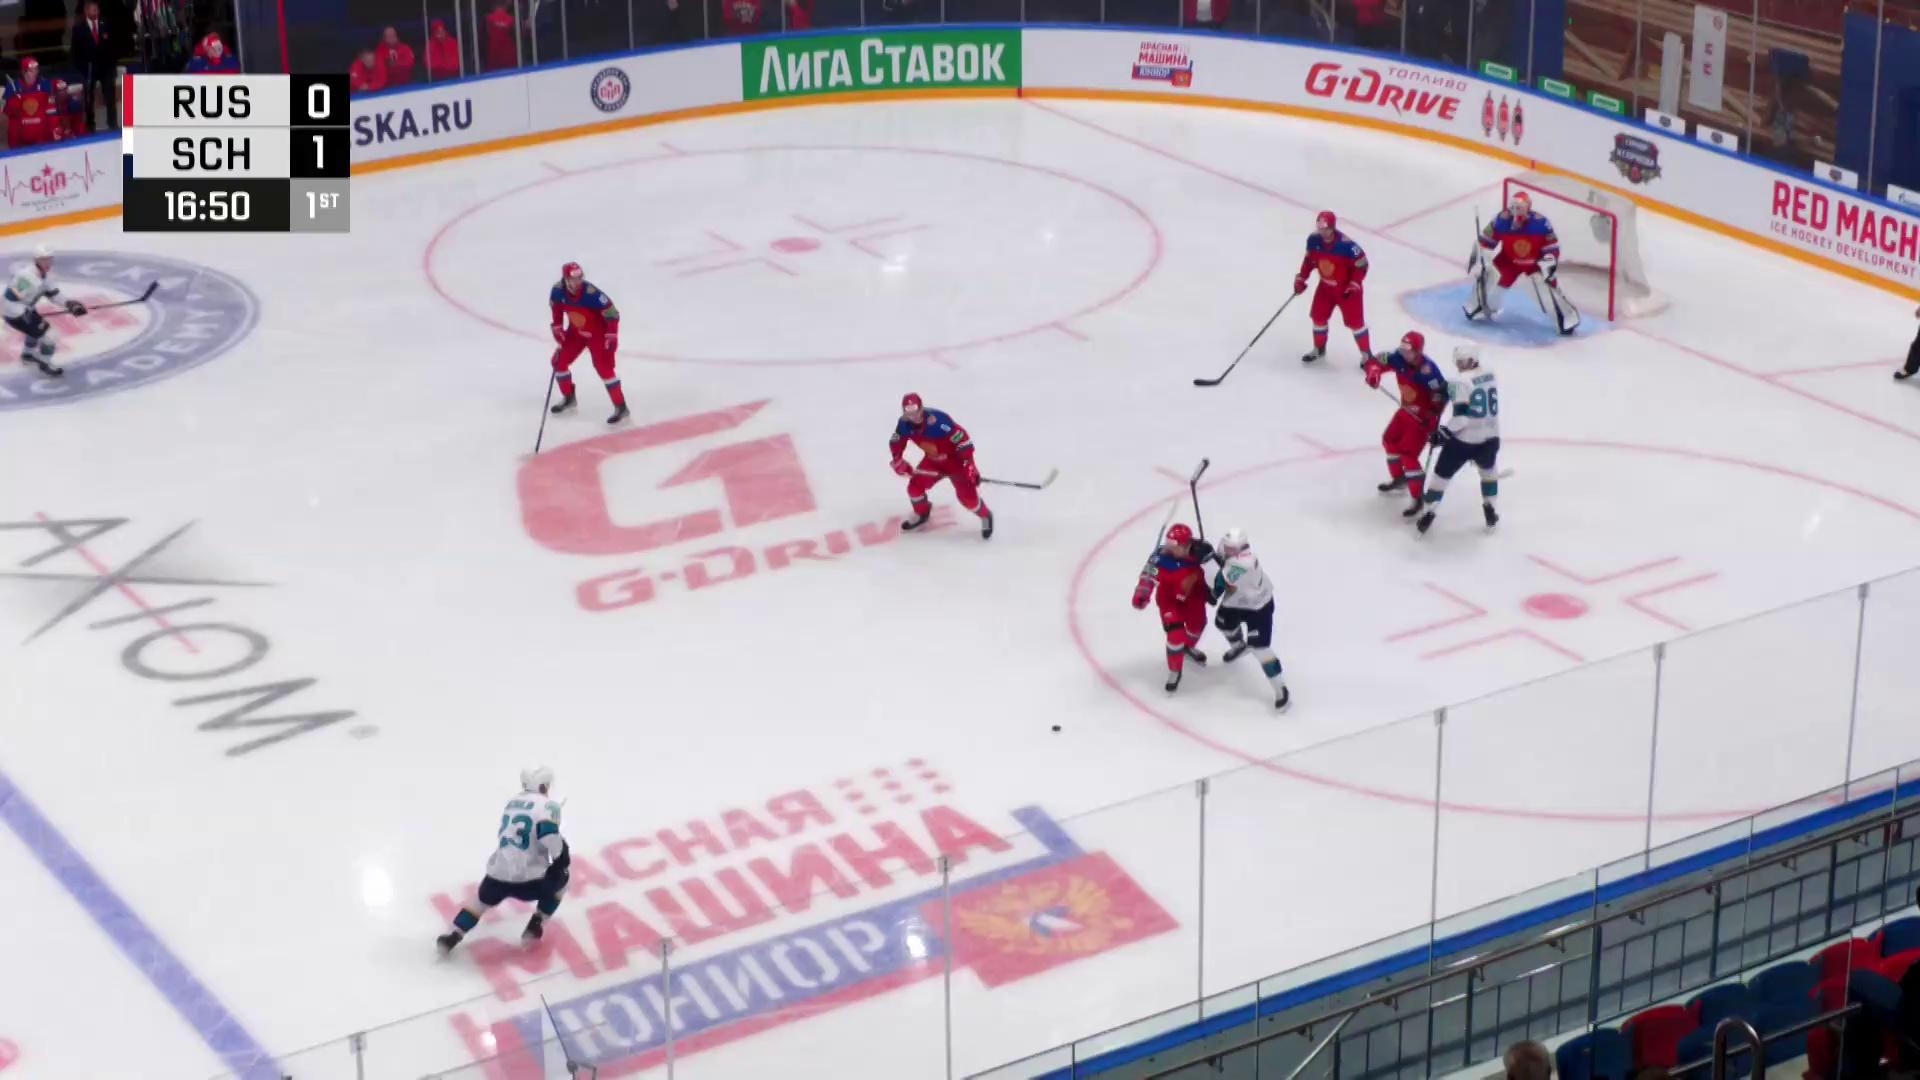ball: (1050, 725, 1062, 733)
